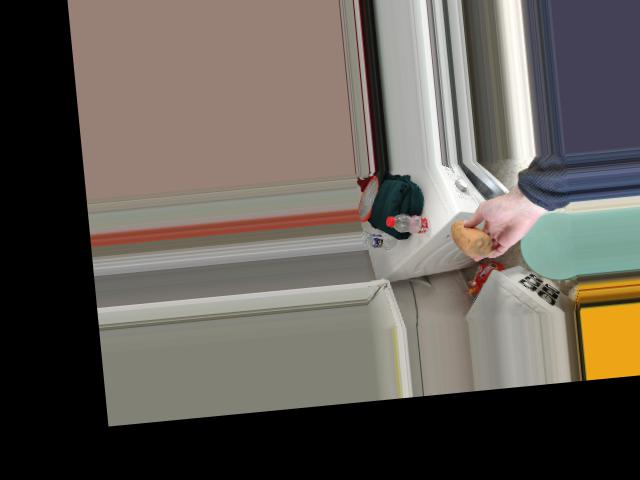sweet_potato: (449, 213, 498, 256)
